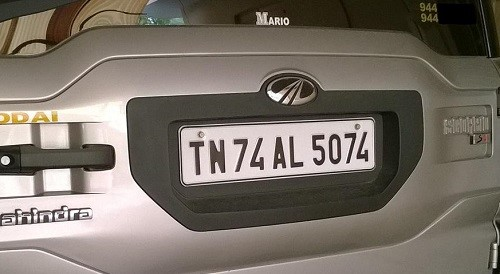TN74AL5074: (179, 116, 375, 184)
